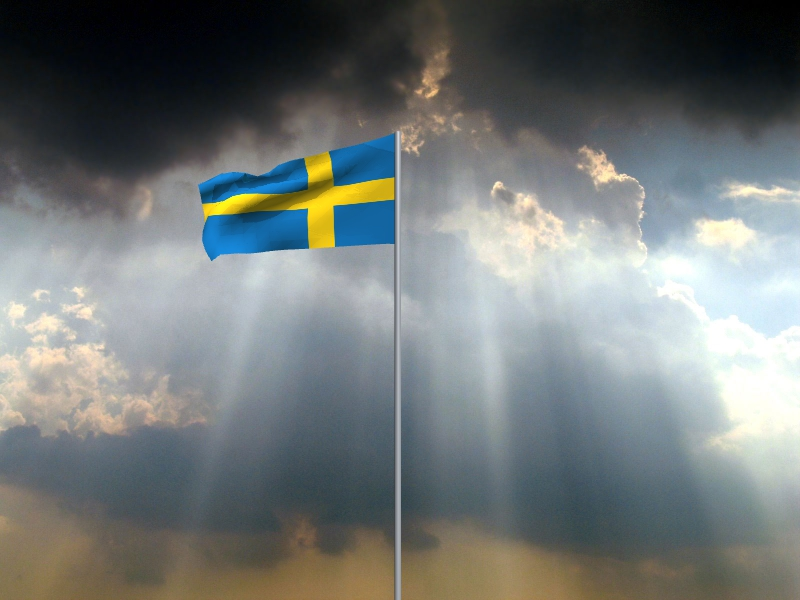se: (198, 134, 395, 263)
